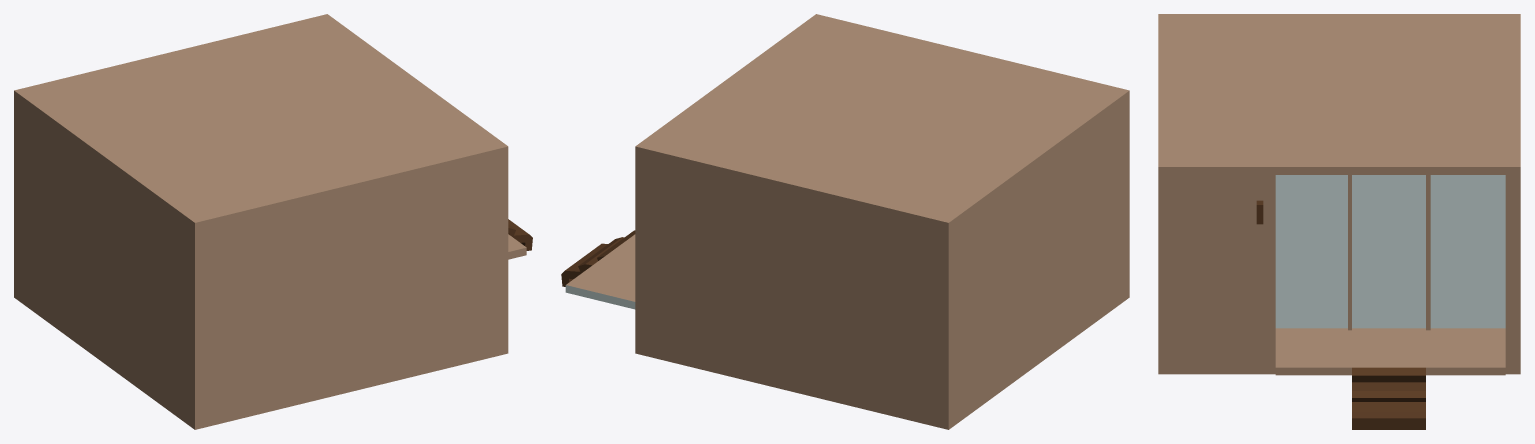
File: tinyhouse1.fbx
3 renders of one model, left to right at view 1: azimuth 30°, elevation 25°; view 2: azimuth 150°, elevation 25°; view 3: azimuth 270°, elevation 25°, orthographic.
Parts seen in each view (by area): view 1: Cube; view 2: Cube, Cube.004; view 3: Cube, Cube.003, Cube.002, Cube.001, Cube.004.
Boxes of the visible parts, x1,y1,x2,y2 form: Cube: [14, 14, 526, 429]; Cube: [565, 14, 1129, 429]; Cube.004: [561, 230, 635, 286]; Cube: [1158, 14, 1520, 375]; Cube.003: [1430, 175, 1505, 328]; Cube.002: [1352, 175, 1425, 328]; Cube.001: [1275, 175, 1347, 328]; Cube.004: [1352, 367, 1425, 429].
Bounding box in the file's own units: 751 × 342 × 541.
